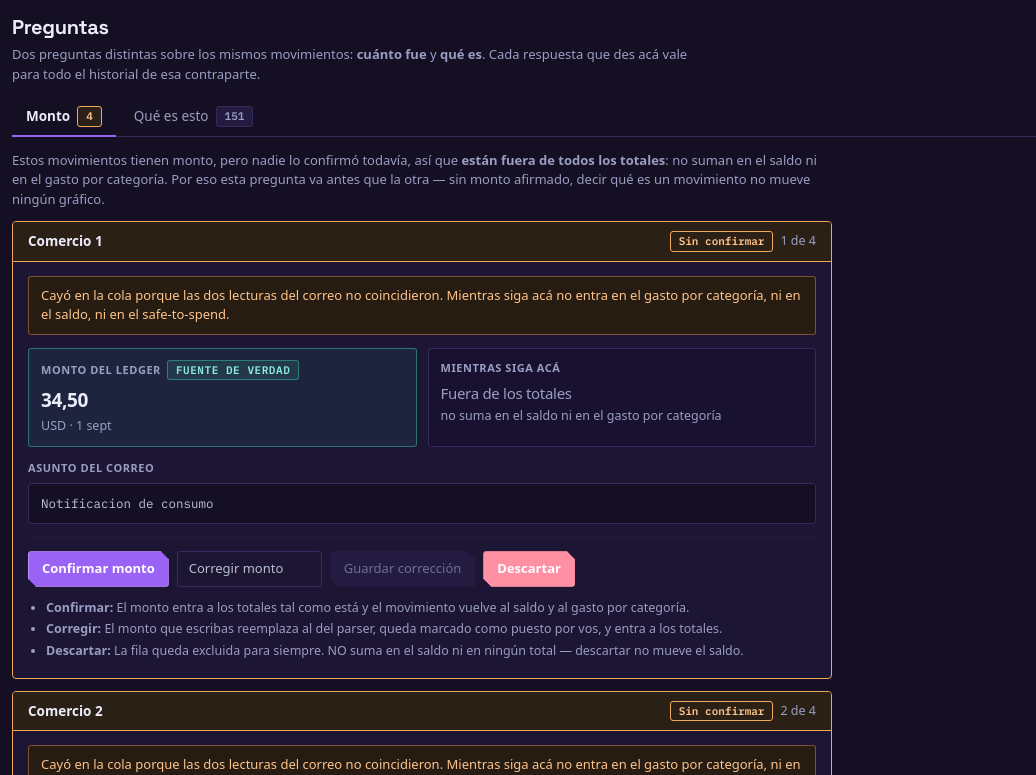
Test case: pestaña 'Monto' — las 4 filas, sobre las rutas que ya existen › el rechazo del motor por moneda se muestra con su motivo
This screenshot has width=1036, height=775.
Click the button with test id "review-confirmar" at x=98, y=569, box x1=28 y1=551 x2=169 y2=587
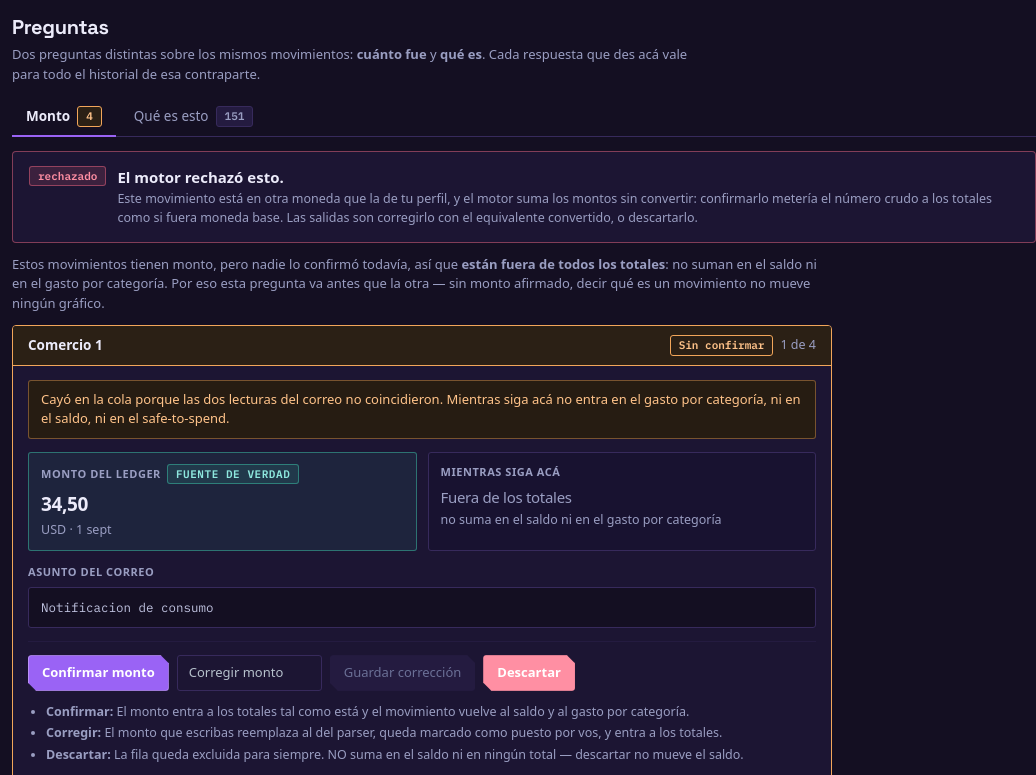
Result: the element with test id "efecto" shows "sin convertir" at x1=117 y1=190 x2=992 y2=226
